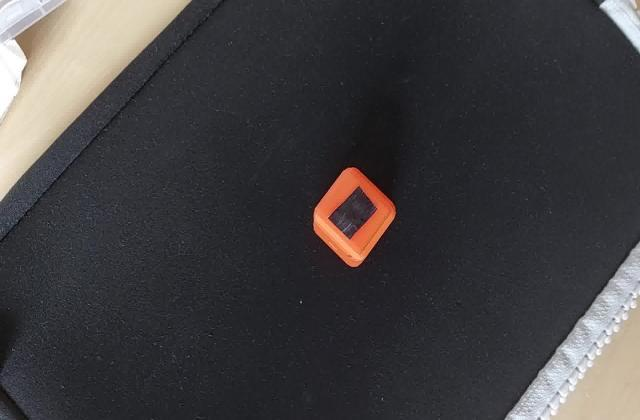black: (324, 186, 382, 240)
sticker: (310, 164, 400, 270)
